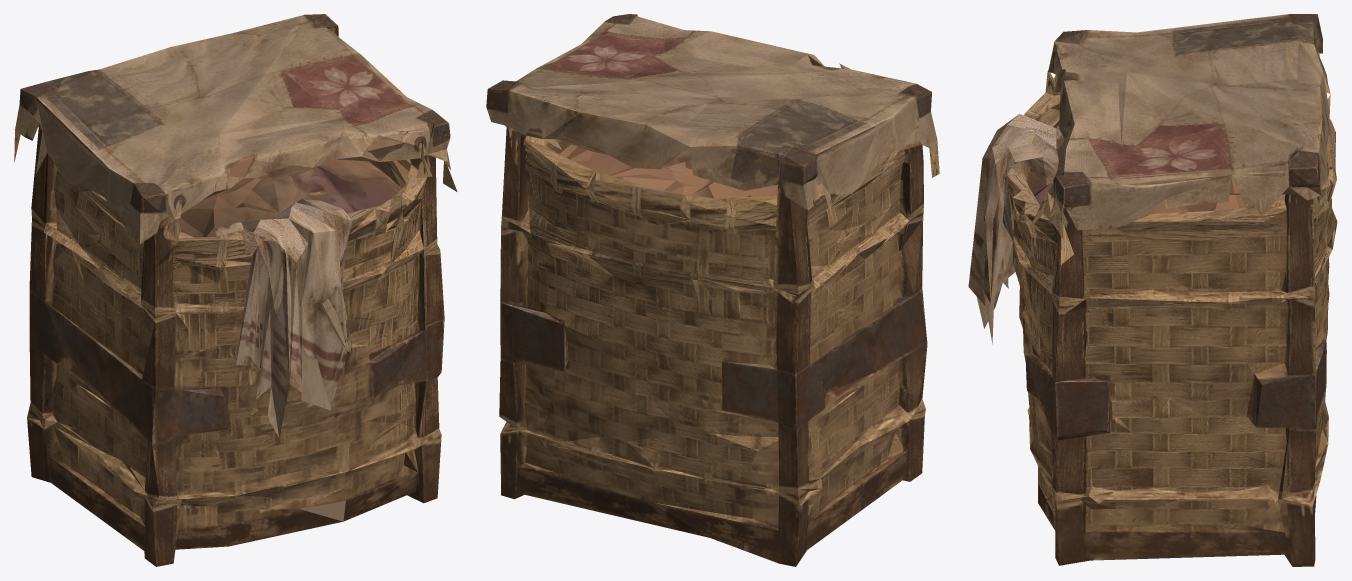
Rendered from laundry-hamper.glb.
3 renders of one model, left to right at view 1: azimuth 30°, elevation 25°; view 2: azimuth 150°, elevation 25°; view 3: azimuth 270°, elevation 25°, orthographic. The views are drawn at different scales.
Parts seen in each view (by area): view 1: output_unwrapped; view 2: output_unwrapped; view 3: output_unwrapped.
Part boxes in pixels (bbox=[...]): output_unwrapped: bbox=[14, 14, 457, 566]; output_unwrapped: bbox=[486, 14, 939, 566]; output_unwrapped: bbox=[968, 14, 1337, 566].
Bounding box in the file's own units: 1.59 × 1.89 × 1.53.
Materials: 1 (1 with a texture image).
